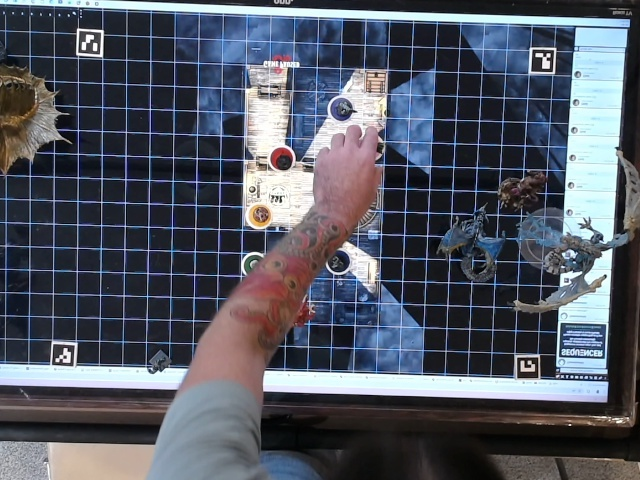blue: (322, 244, 356, 276)
green: (236, 249, 270, 279)
pink: (353, 129, 386, 163)
red: (268, 141, 297, 173)
violet: (322, 95, 357, 125)
yellow: (245, 202, 275, 231)
